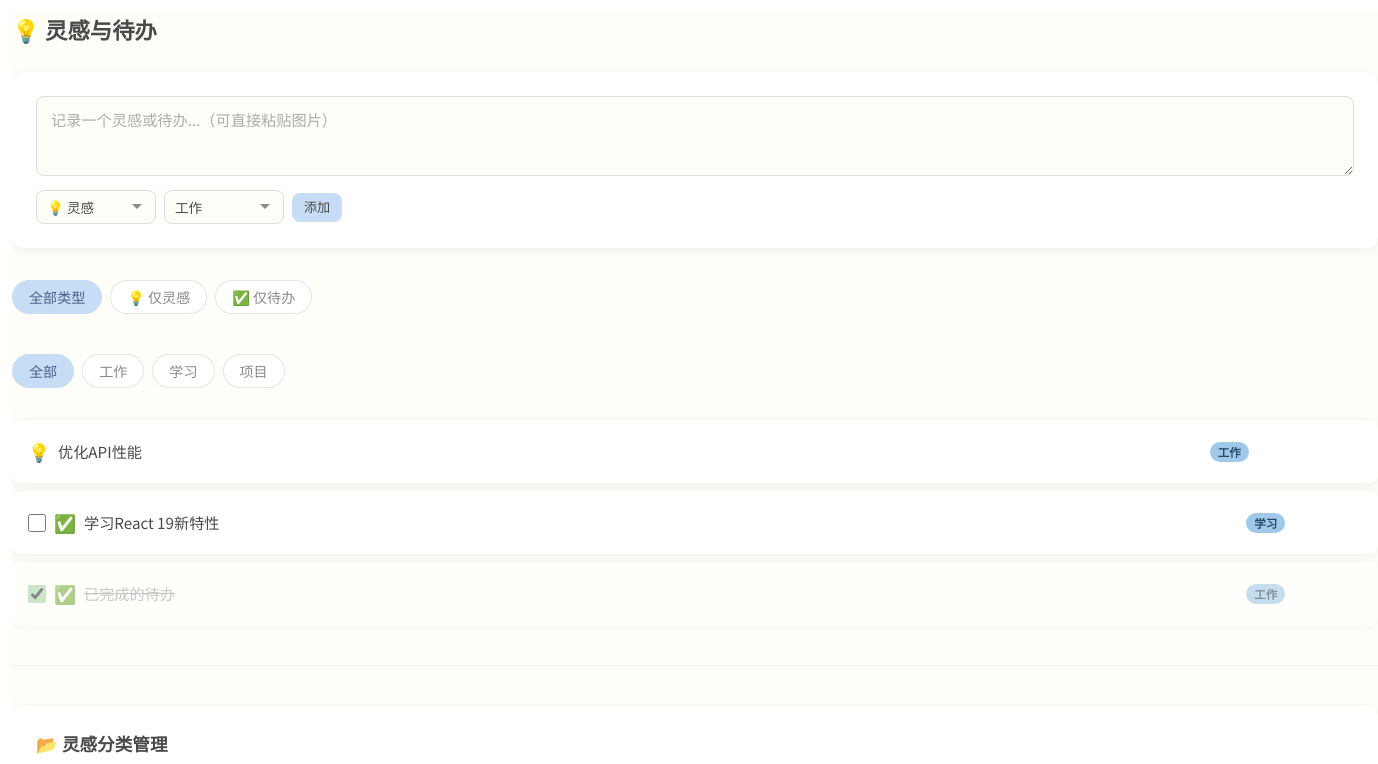
InspirationPage › shows validation error when submitting empty content
Step 1. Click the button "添加" → x=317, y=208, box [292,193,342,222]
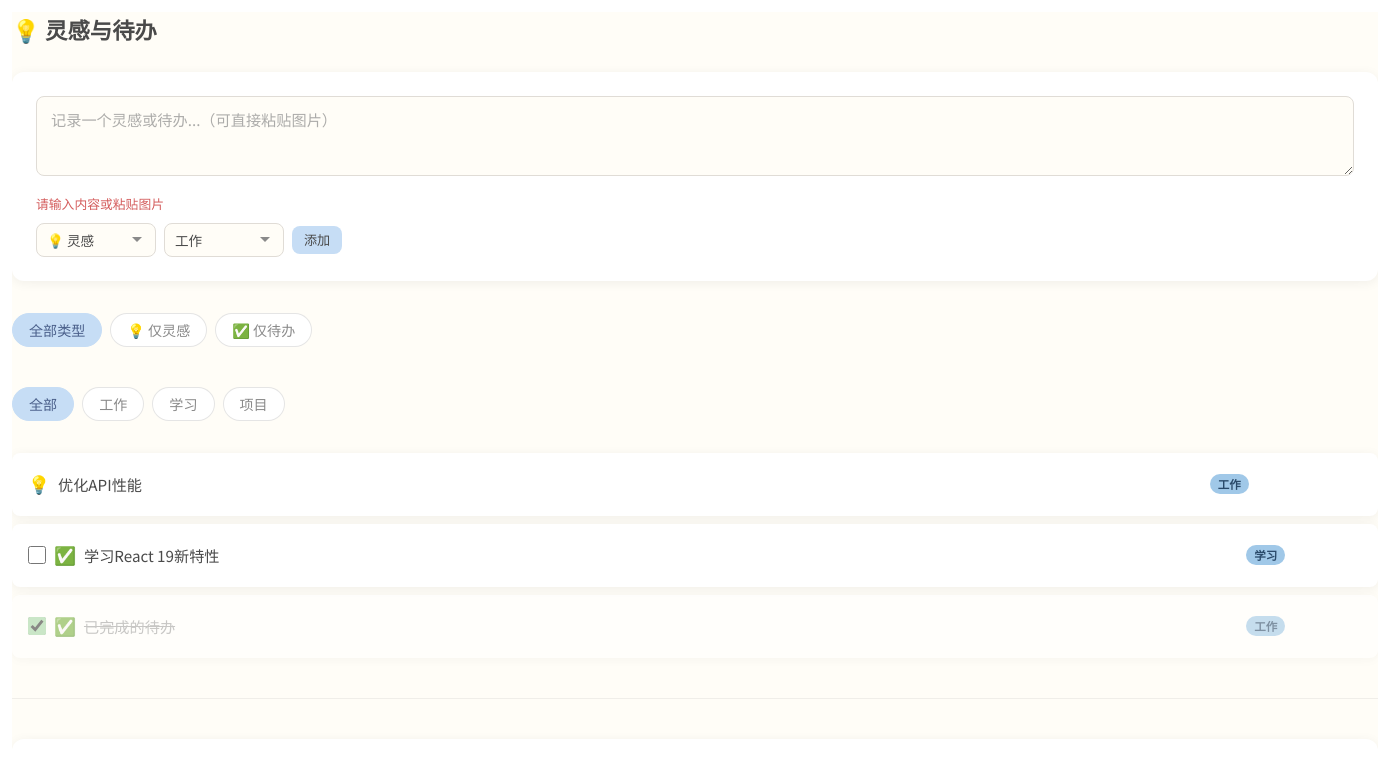
Expected: the text "请输入内容或粘贴图片" is shown, [36,194,164,213]
